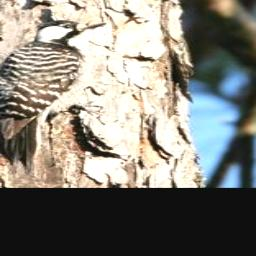Woodpecker: (0, 19, 108, 173)
